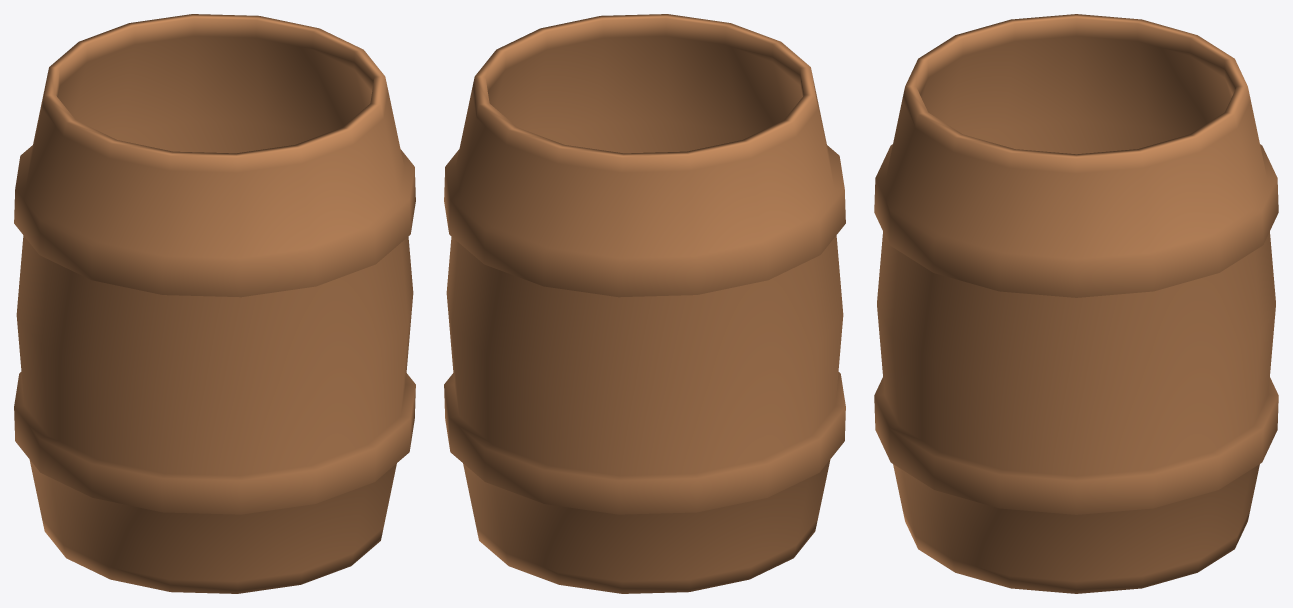
Rendered from Barrel_Vegetable_01B_Lod0.fbx.
The picture shows the model from 3 angles, left to right: view 1: azimuth 30°, elevation 25°; view 2: azimuth 150°, elevation 25°; view 3: azimuth 270°, elevation 25°; orthographic projection.
Parts seen in each view (by area): view 1: Barrel_Vegetable_01B_Lod0; view 2: Barrel_Vegetable_01B_Lod0; view 3: Barrel_Vegetable_01B_Lod0.
Part boxes in pixels (<box>): Barrel_Vegetable_01B_Lod0: <box>14,14,415,593</box>; Barrel_Vegetable_01B_Lod0: <box>444,14,845,593</box>; Barrel_Vegetable_01B_Lod0: <box>874,14,1278,593</box>.
Size of the model in its own units: 52.32 by 62.09 by 52.32.
